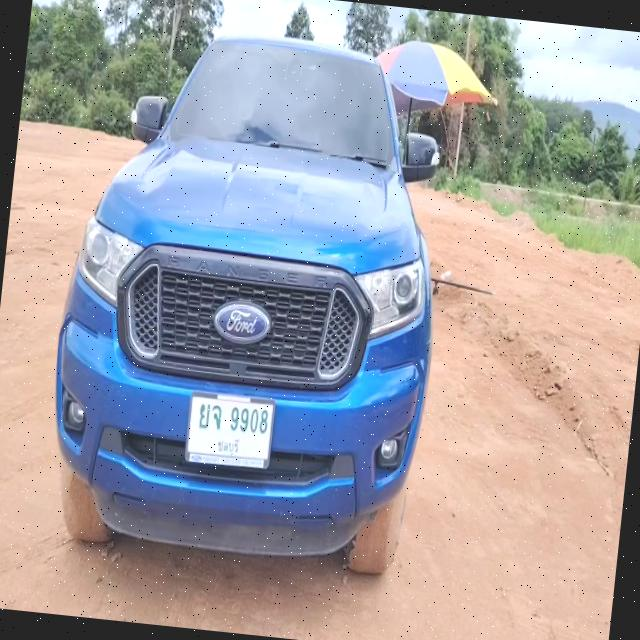Digit: (227, 402, 270, 438)
Licenseplate: (184, 392, 275, 469)
Provincename: (215, 435, 241, 457)
Thaichar: (196, 400, 224, 432)
